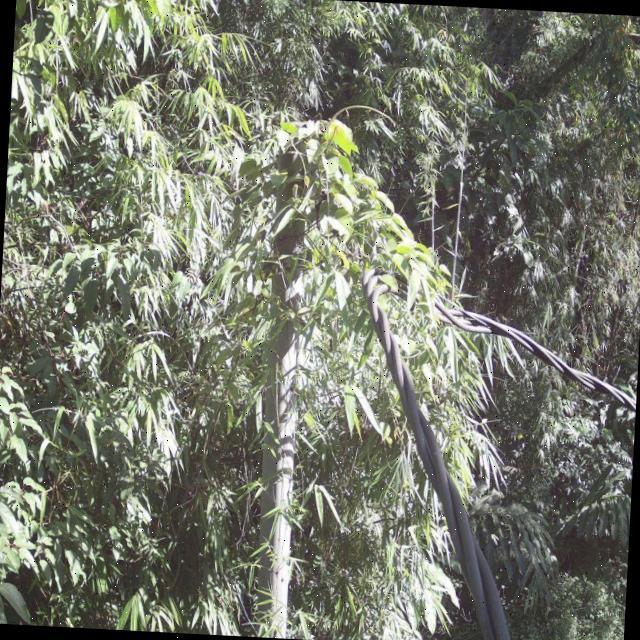critical vegetation: (222, 101, 498, 604)
